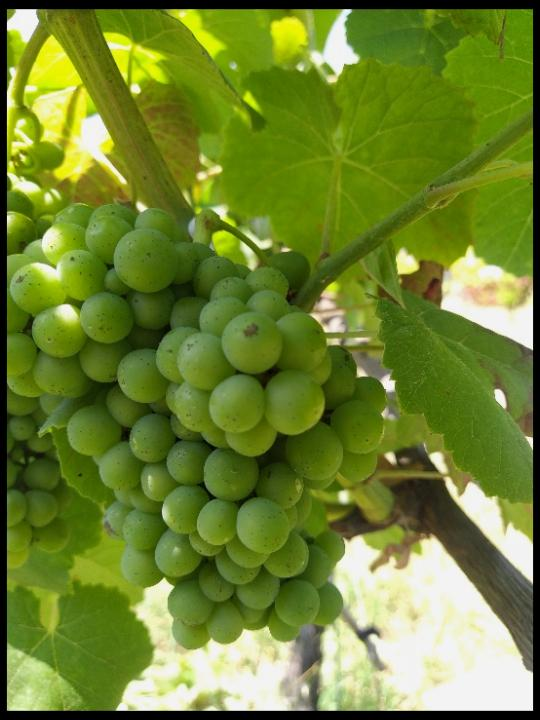grape: (10, 200, 391, 651)
